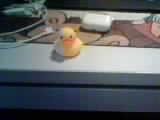duck: (49, 27, 89, 65)
